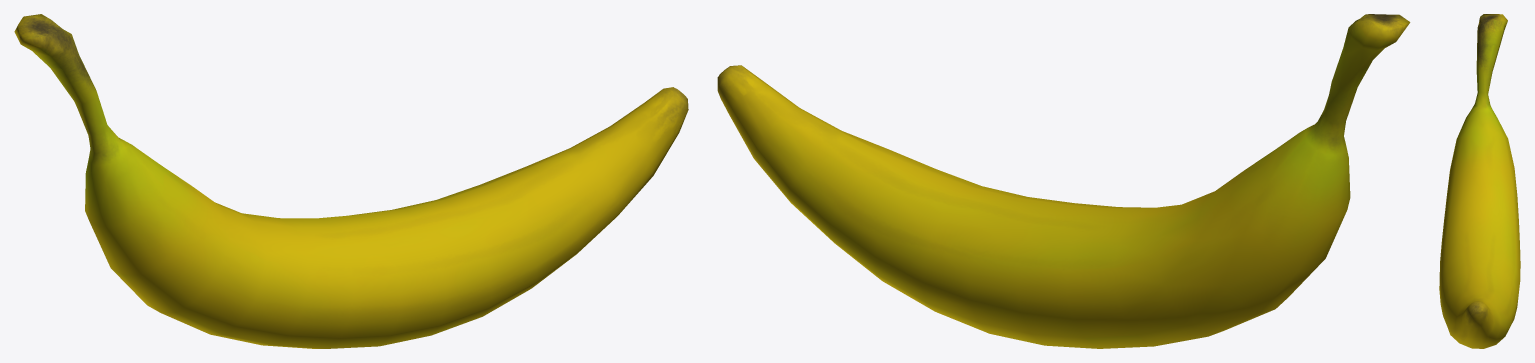
Rendered from banana-v1.glb.
The picture shows the model from 3 angles, left to right: view 1: azimuth 30°, elevation 25°; view 2: azimuth 150°, elevation 25°; view 3: azimuth 270°, elevation 25°; orthographic projection. The views are drawn at different scales.
Parts seen in each view (by area): view 1: banana_low; view 2: banana_low; view 3: banana_low.
Part boxes in pixels (<box>): banana_low: <box>14,14,688,348</box>; banana_low: <box>717,14,1410,348</box>; banana_low: <box>1439,14,1520,348</box>.
Bounding box in the file's own units: 446 × 252 × 85.44.
Materials: 1 (1 with a texture image).
